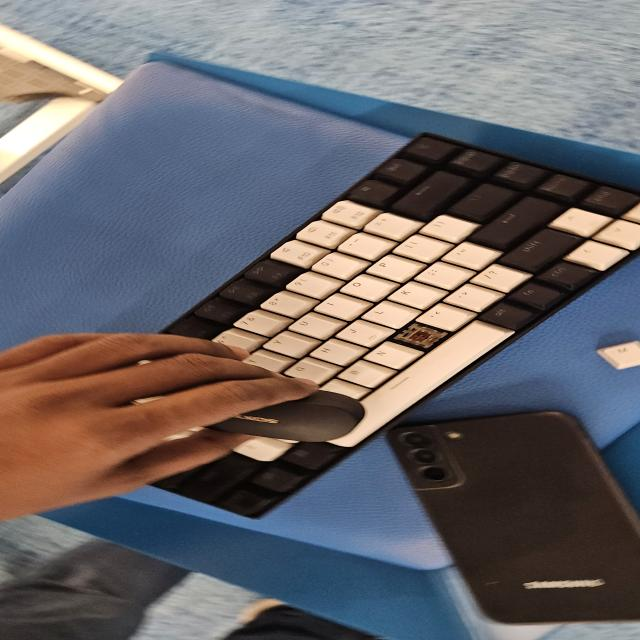C: (409, 329, 438, 346)
